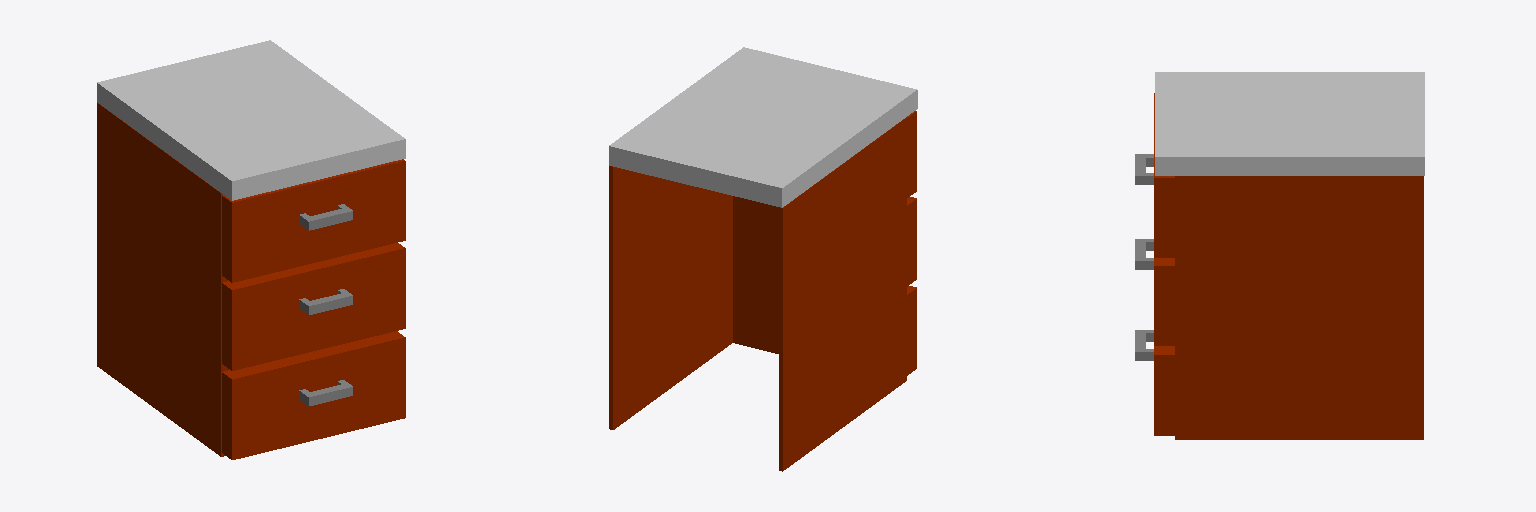
Rendered from cassetti_cucina_45x60_Scene.obj.
3 views of the same model, side by side, from view 1: azimuth 30°, elevation 25°; view 2: azimuth 150°, elevation 25°; view 3: azimuth 270°, elevation 25° (orthographic).
Visible parts, largest first — view 1: Cube.002_Cube.002_WoodCherry, Cube_Cube.003_Material.002, Cube.002_Cube.002_Aluminum.001; view 2: Cube.002_Cube.002_WoodCherry, Cube_Cube.003_Material.002; view 3: Cube.002_Cube.002_WoodCherry, Cube_Cube.003_Material.002, Cube.002_Cube.002_Aluminum.001.
Boxes of the visible parts, x1=… form: Cube.002_Cube.002_WoodCherry: x1=97, y1=102, x2=405, y2=459; Cube_Cube.003_Material.002: x1=97, y1=40, x2=405, y2=200; Cube.002_Cube.002_Aluminum.001: x1=299, y1=204, x2=352, y2=406; Cube.002_Cube.002_WoodCherry: x1=609, y1=111, x2=916, y2=471; Cube_Cube.003_Material.002: x1=609, y1=47, x2=917, y2=207; Cube.002_Cube.002_WoodCherry: x1=1154, y1=93, x2=1423, y2=439; Cube_Cube.003_Material.002: x1=1155, y1=72, x2=1424, y2=175; Cube.002_Cube.002_Aluminum.001: x1=1135, y1=154, x2=1153, y2=360.
Bounding box in the file's own units: 1.93 × 3.01 × 2.79.